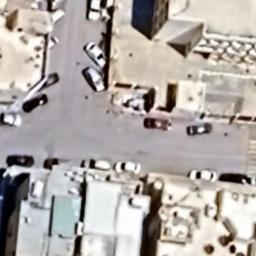pickup: (79, 40, 110, 66)
sedan: (187, 166, 219, 186), (112, 160, 142, 176)
unknown: (22, 94, 54, 117), (184, 120, 216, 140), (4, 150, 36, 168), (142, 114, 172, 132), (82, 156, 110, 174)
van: (81, 68, 107, 94), (86, 0, 104, 22)
